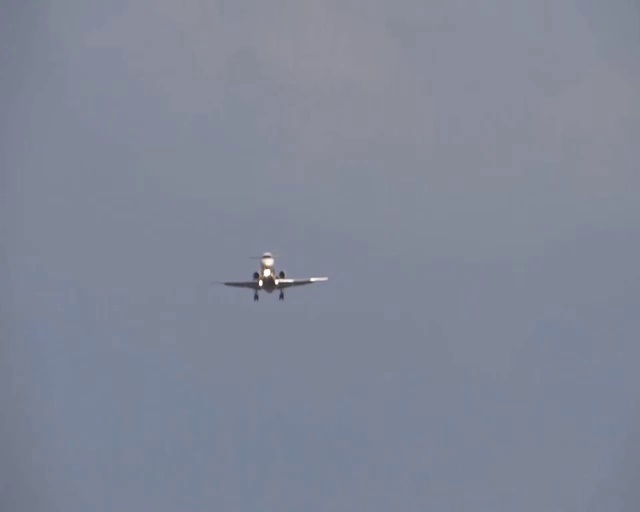AIRPLANE: (213, 251, 329, 301)
